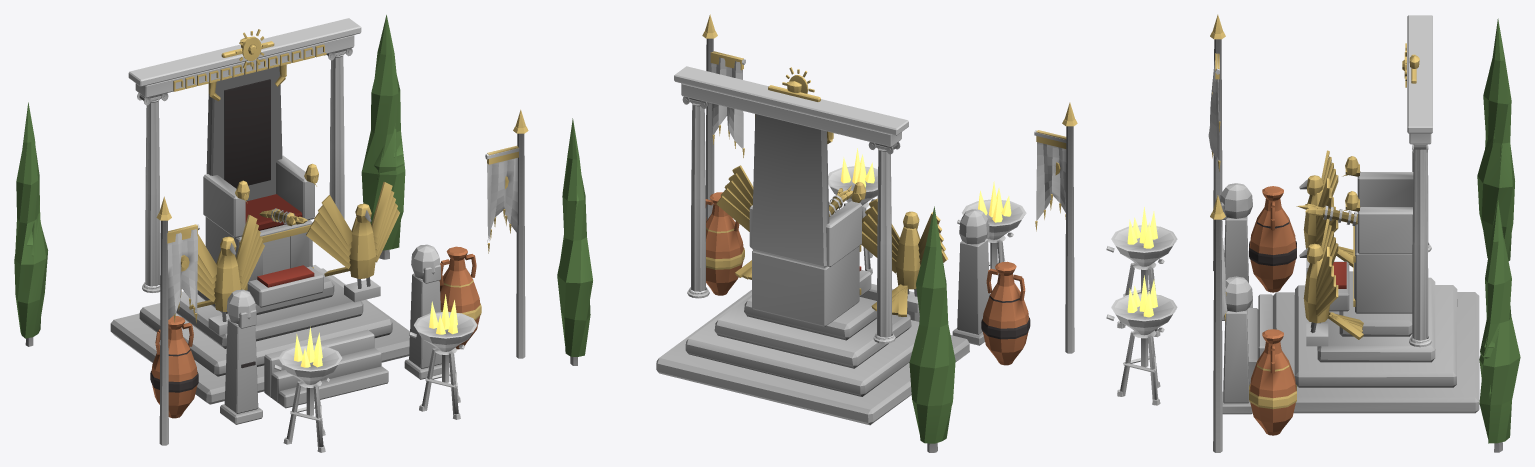
File: throne-of-zeus-l1.glb
3 views of the same model, side by side, from view 1: azimuth 30°, elevation 25°; view 2: azimuth 150°, elevation 25°; view 3: azimuth 270°, elevation 25° (orthographic). The views are drawn at different scales.
Parts seen in each view (by area): view 1: throne-of-zeus-l1; view 2: throne-of-zeus-l1; view 3: throne-of-zeus-l1.
Part boxes in pixels (x1,y1,x2,y2): throne-of-zeus-l1: [14, 15, 528, 452]; throne-of-zeus-l1: [557, 14, 1077, 452]; throne-of-zeus-l1: [1106, 14, 1520, 452].
Bounding box in the file's own units: 1.39 × 1.04 × 1.24.
